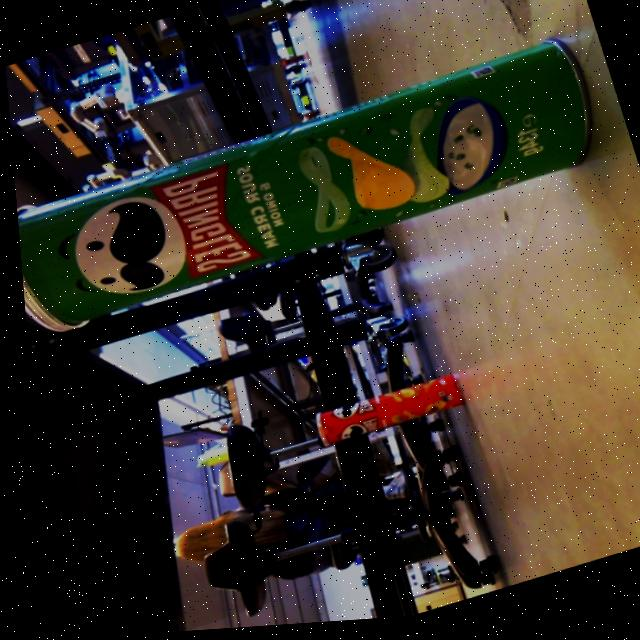greenpringles: (4, 29, 629, 358)
redpringles: (285, 360, 475, 472)
